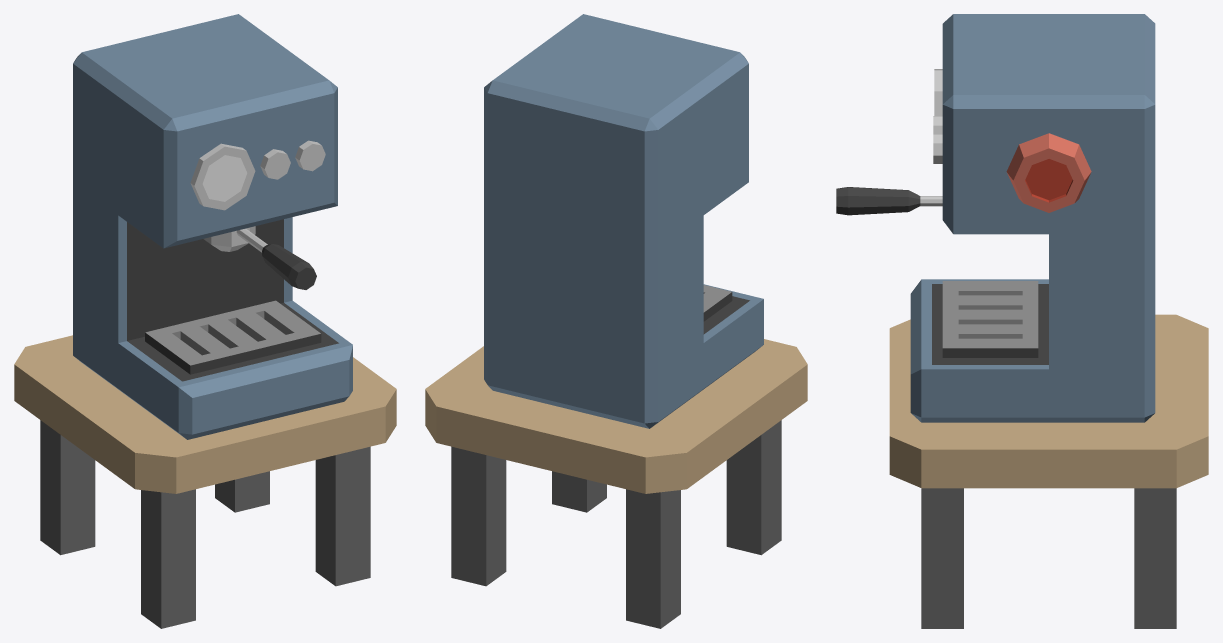
File: CoffeeMachine02.fbx
3 views of the same model, side by side, from view 1: azimuth 30°, elevation 25°; view 2: azimuth 150°, elevation 25°; view 3: azimuth 270°, elevation 25° (orthographic). The views are drawn at different scales.
Visible parts, largest first — view 1: CoffeeMachine02; view 2: CoffeeMachine02; view 3: CoffeeMachine02.
Part boxes in pixels (box(x1,y1,x2,y2)): CoffeeMachine02: box(14, 14, 396, 628); CoffeeMachine02: box(425, 14, 807, 628); CoffeeMachine02: box(836, 14, 1208, 628).
Bounding box in the file's own units: 1.5 × 2.7 × 1.75.
